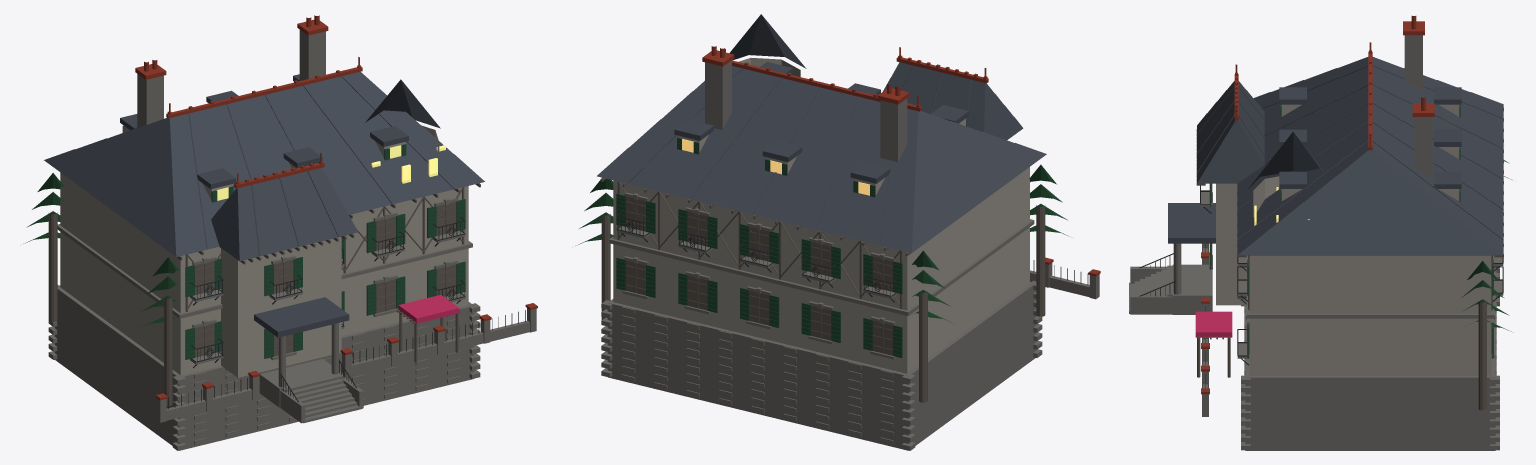
File: fv_pv_02_phan_vien_sinh_hoc_botanical_chocolate_wing.glb
3 views of the same model, side by side, from view 1: azimuth 30°, elevation 25°; view 2: azimuth 150°, elevation 25°; view 3: azimuth 270°, elevation 25° (orthographic). The views are drawn at different scales.
Parts seen in each view (by area): view 1: marseille_corrugated_roof_tiles, granite_foundation_and_stairs, stucco_facade_and_dormers, colombage_timber_and_eaves, pine_green_louvered_shutters, ridge_cresting_and_chimneys, wrought_iron_balconies_3d, pine_trees_and_garden_hedges, bougainvillea_pergola_clusters, warm_night_windows_ffb86c; view 2: marseille_corrugated_roof_tiles, granite_foundation_and_stairs, stucco_facade_and_dormers, colombage_timber_and_eaves, pine_green_louvered_shutters, ridge_cresting_and_chimneys, pine_trees_and_garden_hedges, wrought_iron_balconies_3d; view 3: marseille_corrugated_roof_tiles, stucco_facade_and_dormers, granite_foundation_and_stairs, colombage_timber_and_eaves, ridge_cresting_and_chimneys, bougainvillea_pergola_clusters, wrought_iron_balconies_3d, pine_green_louvered_shutters, pine_trees_and_garden_hedges.
Part boxes in pixels (left/top/right/bottom): marseille_corrugated_roof_tiles: left=44, top=71, right=484, bottom=337; granite_foundation_and_stairs: left=48, top=30, right=536, bottom=450; stucco_facade_and_dormers: left=60, top=125, right=468, bottom=377; colombage_timber_and_eaves: left=48, top=183, right=480, bottom=406; pine_green_louvered_shutters: left=122, top=126, right=465, bottom=359; ridge_cresting_and_chimneys: left=135, top=15, right=537, bottom=400; wrought_iron_balconies_3d: left=168, top=217, right=525, bottom=409; pine_trees_and_garden_hedges: left=25, top=173, right=179, bottom=328; bougainvillea_pergola_clusters: left=398, top=295, right=459, bottom=323; warm_night_windows_ffb86c: left=216, top=145, right=445, bottom=200; marseille_corrugated_roof_tiles: left=597, top=14, right=1046, bottom=252; granite_foundation_and_stairs: left=601, top=60, right=1099, bottom=450; stucco_facade_and_dormers: left=613, top=58, right=1029, bottom=373; colombage_timber_and_eaves: left=600, top=178, right=1045, bottom=402; pine_green_louvered_shutters: left=616, top=119, right=966, bottom=357; ridge_cresting_and_chimneys: left=702, top=46, right=1100, bottom=276; pine_trees_and_garden_hedges: left=577, top=164, right=1068, bottom=323; wrought_iron_balconies_3d: left=616, top=212, right=1088, bottom=302; marseille_corrugated_roof_tiles: left=1168, top=57, right=1503, bottom=255; stucco_facade_and_dormers: left=1216, top=104, right=1491, bottom=375; granite_foundation_and_stairs: left=1129, top=35, right=1503, bottom=450; colombage_timber_and_eaves: left=1196, top=108, right=1503, bottom=410; ridge_cresting_and_chimneys: left=1201, top=16, right=1434, bottom=394; bougainvillea_pergola_clusters: left=1195, top=311, right=1232, bottom=337; wrought_iron_balconies_3d: left=1139, top=185, right=1503, bottom=387; pine_green_louvered_shutters: left=1209, top=104, right=1493, bottom=358; pine_trees_and_garden_hedges: left=1461, top=160, right=1513, bottom=332.
Size of the model in its own units: 25.77 by 20.53 by 23.08.
